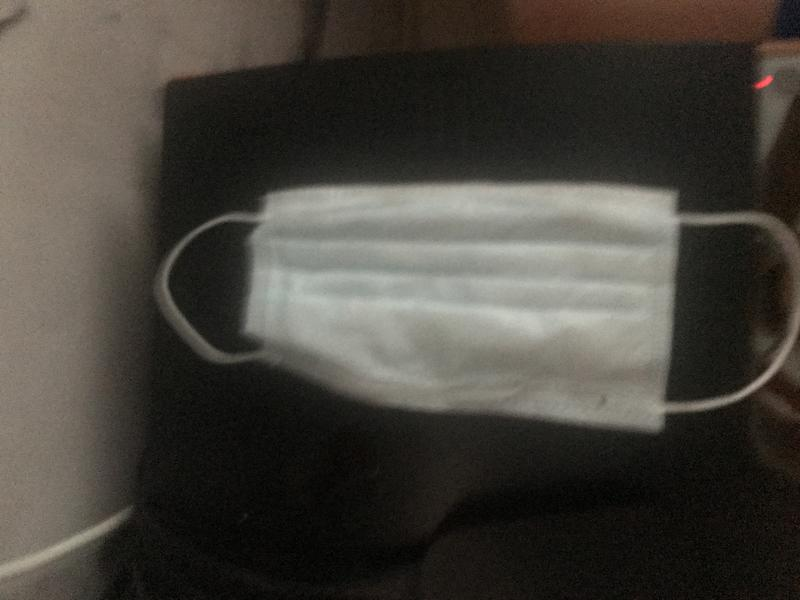medical_mask: (158, 187, 800, 433)
